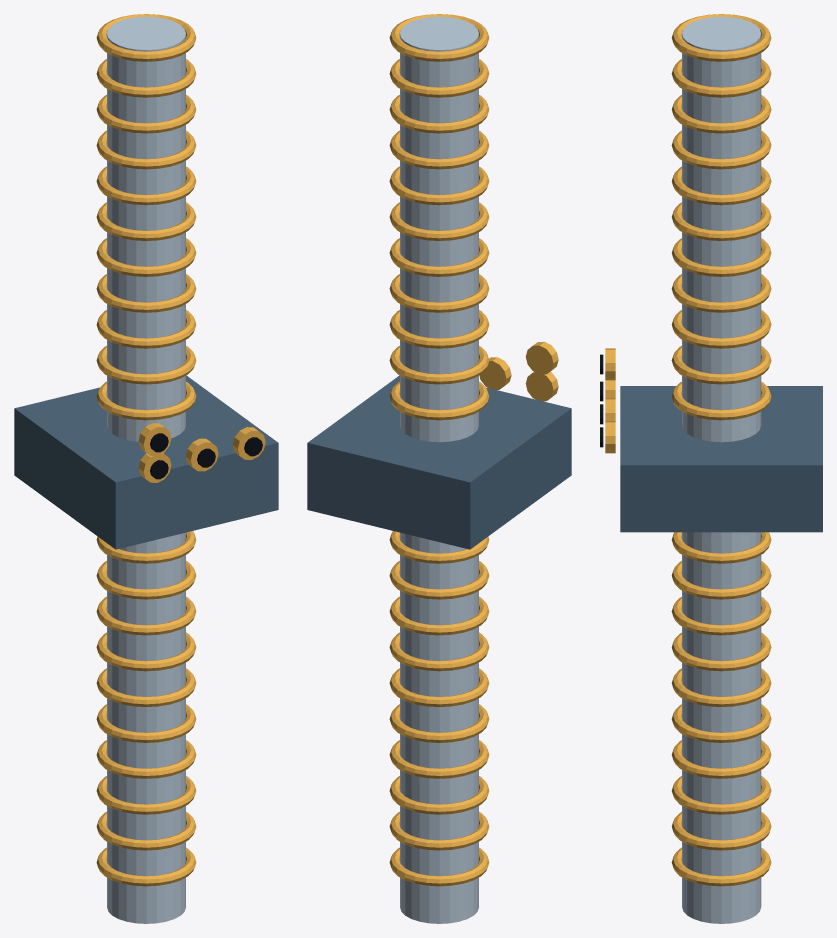
Rendered from 37_L92_AxialFeedBallscrew.fbx.
The picture shows the model from 3 angles, left to right: view 1: azimuth 30°, elevation 25°; view 2: azimuth 150°, elevation 25°; view 3: azimuth 270°, elevation 25°; orthographic projection.
Visible parts, largest first — view 1: L92_AxialFeedBallscrew_Part_0000, L92_AxialFeedBallscrew_Part_0003, L92_AxialFeedBallscrew_Part_0001, L92_AxialFeedBallscrew_Part_0002, L92_AxialFeedBallscrew_Part_0006, L92_AxialFeedBallscrew_Part_0008, L92_AxialFeedBallscrew_Part_0010; view 2: L92_AxialFeedBallscrew_Part_0000, L92_AxialFeedBallscrew_Part_0003, L92_AxialFeedBallscrew_Part_0001, L92_AxialFeedBallscrew_Part_0002, L92_AxialFeedBallscrew_Part_0010, L92_AxialFeedBallscrew_Part_0004, L92_AxialFeedBallscrew_Part_0006; view 3: L92_AxialFeedBallscrew_Part_0000, L92_AxialFeedBallscrew_Part_0003, L92_AxialFeedBallscrew_Part_0001, L92_AxialFeedBallscrew_Part_0002.
Boxes of the visible parts, left/top/right/bottom form: L92_AxialFeedBallscrew_Part_0000: left=107, top=16, right=185, bottom=923; L92_AxialFeedBallscrew_Part_0003: left=14, top=375, right=278, bottom=549; L92_AxialFeedBallscrew_Part_0001: left=96, top=238, right=196, bottom=886; L92_AxialFeedBallscrew_Part_0002: left=96, top=14, right=196, bottom=240; L92_AxialFeedBallscrew_Part_0006: left=185, top=438, right=218, bottom=471; L92_AxialFeedBallscrew_Part_0008: left=233, top=427, right=265, bottom=459; L92_AxialFeedBallscrew_Part_0010: left=138, top=423, right=171, bottom=455; L92_AxialFeedBallscrew_Part_0000: left=400, top=16, right=478, bottom=923; L92_AxialFeedBallscrew_Part_0003: left=307, top=375, right=571, bottom=549; L92_AxialFeedBallscrew_Part_0001: left=389, top=238, right=489, bottom=886; L92_AxialFeedBallscrew_Part_0002: left=389, top=14, right=489, bottom=240; L92_AxialFeedBallscrew_Part_0010: left=525, top=341, right=558, bottom=374; L92_AxialFeedBallscrew_Part_0004: left=525, top=371, right=558, bottom=401; L92_AxialFeedBallscrew_Part_0006: left=479, top=357, right=511, bottom=389; L92_AxialFeedBallscrew_Part_0000: left=682, top=16, right=761, bottom=923; L92_AxialFeedBallscrew_Part_0003: left=620, top=386, right=822, bottom=532; L92_AxialFeedBallscrew_Part_0001: left=671, top=238, right=771, bottom=886; L92_AxialFeedBallscrew_Part_0002: left=671, top=14, right=771, bottom=240.
Size of the model in its own units: 76 by 390 by 90.2.
